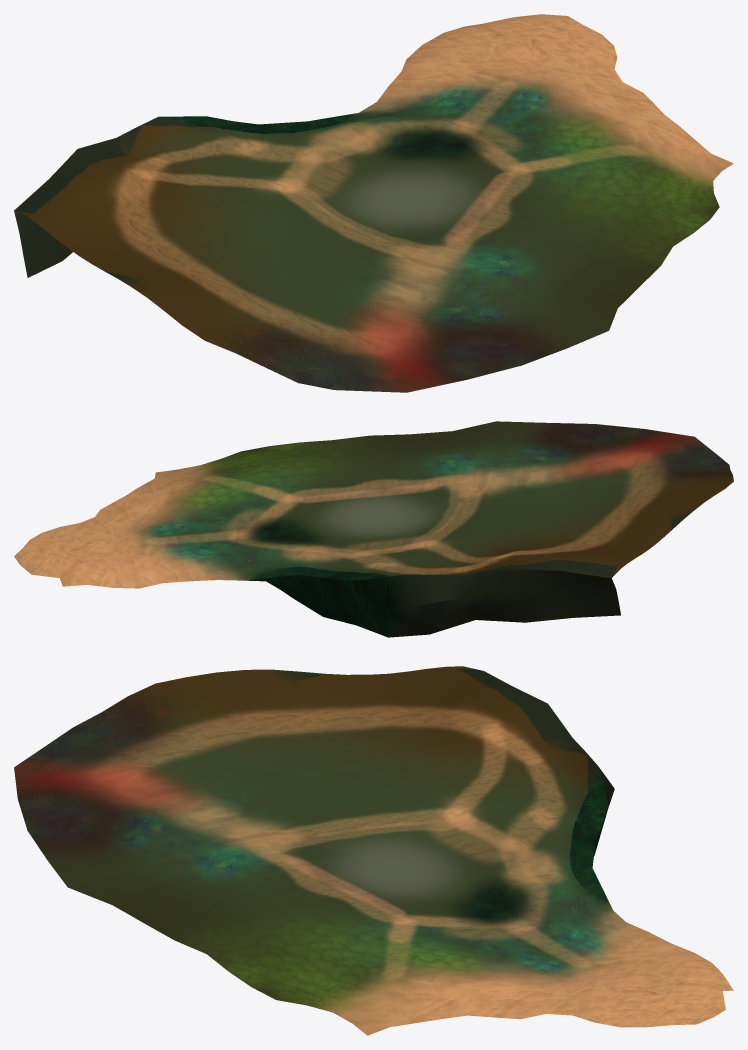
The model's file is map.glb.
The picture shows the model from 3 angles, top to bottom: view 1: azimuth 30°, elevation 25°; view 2: azimuth 150°, elevation 25°; view 3: azimuth 270°, elevation 25°; orthographic projection. The views are drawn at different scales.
Bounding box in the file's own units: 466 × 72.88 × 459.
Materials: 1 (1 with a texture image).
